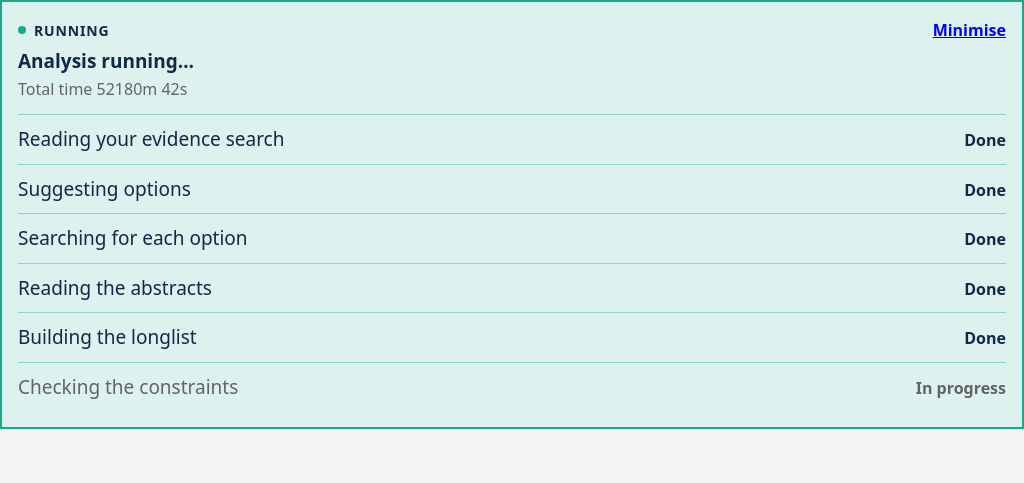
Test case: RunningCard — a longlist walk's beats (task 045) › shows each completed stage's beat sentence when it is opened
This screenshot has width=1024, height=483.
Click the button "Reading your evidence search Done" at (151, 139), box [18, 115, 1006, 164]
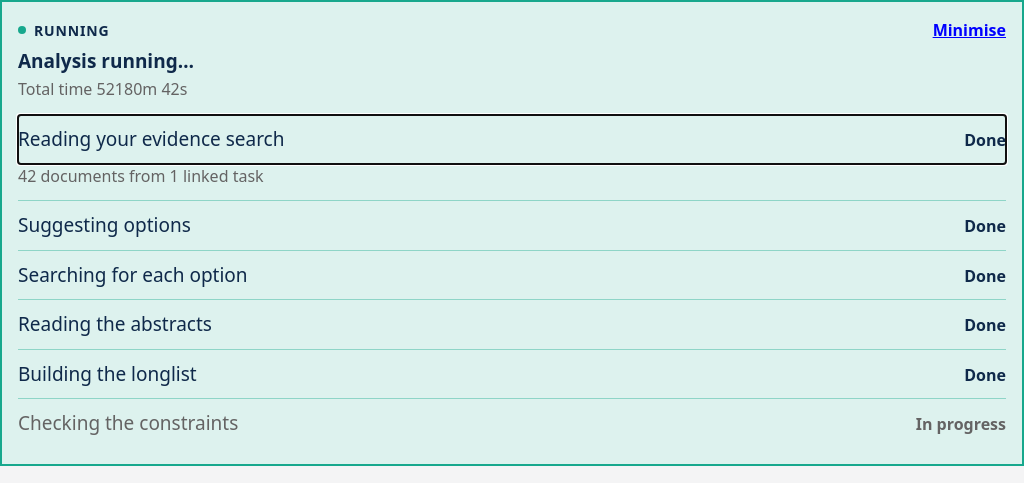
Expected: the text "42 documents from 1 linked task" is shown, [18, 165, 264, 187]
Click the button "Suggesting options Done" at (104, 225), box [18, 201, 1006, 250]
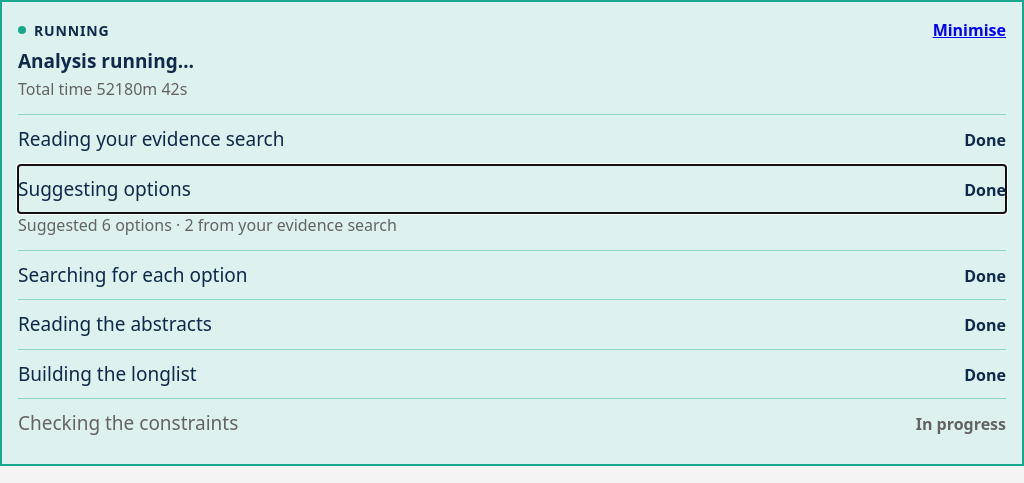
Expected: the text "Suggested 6 options · 2 from your evidence search" is shown, [18, 214, 397, 236]
Click the button "Searching for each option Done" at (133, 275), box [18, 251, 1006, 299]
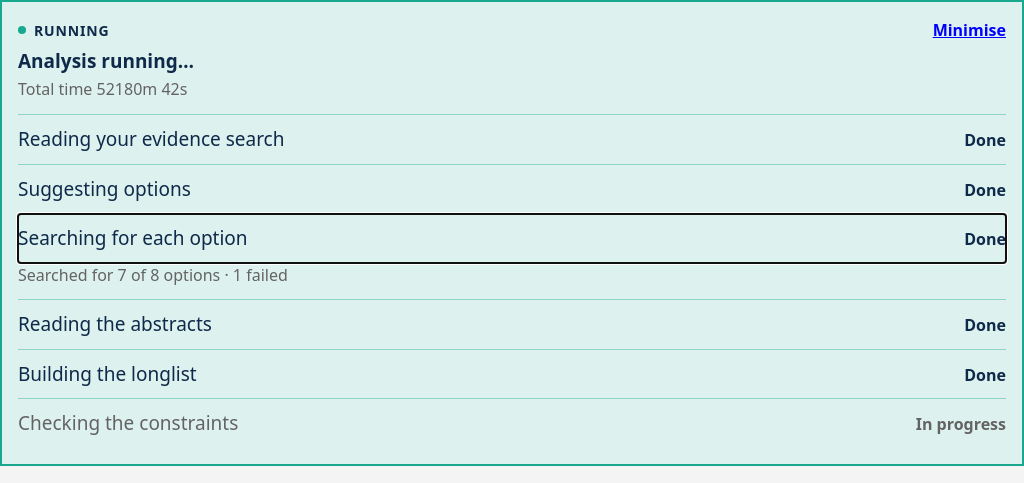
Expected: the text "Searched for 7 of 8 options · 1 failed" is shown, [18, 264, 288, 286]
Click the button "Reading the abstracts Done" at (115, 324), box [18, 300, 1006, 349]
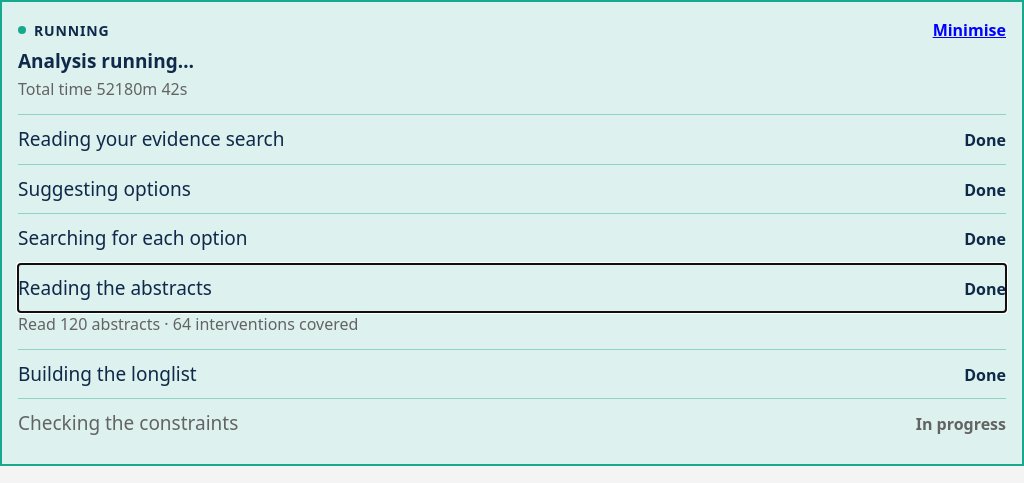
Expected: the text "Read 120 abstracts · 64 interventions covered" is shown, [18, 313, 358, 335]
Click the button "Building the longlist Done" at (107, 374), box [18, 350, 1006, 398]
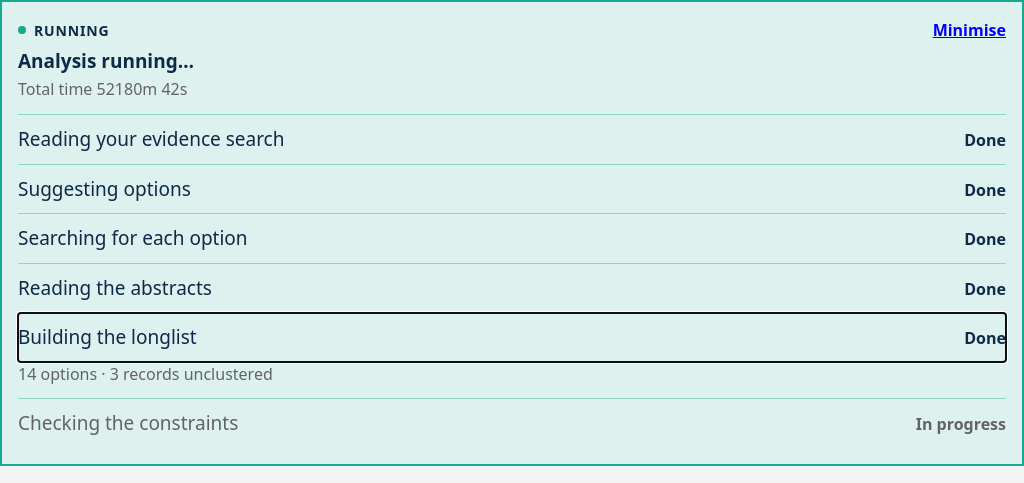
Expected: the text "14 options · 3 records unclustered" is shown, [18, 363, 273, 385]
